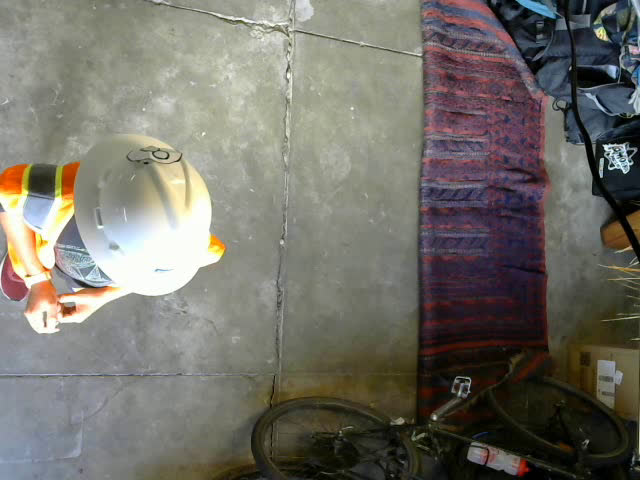eight: (124, 144, 184, 166)
